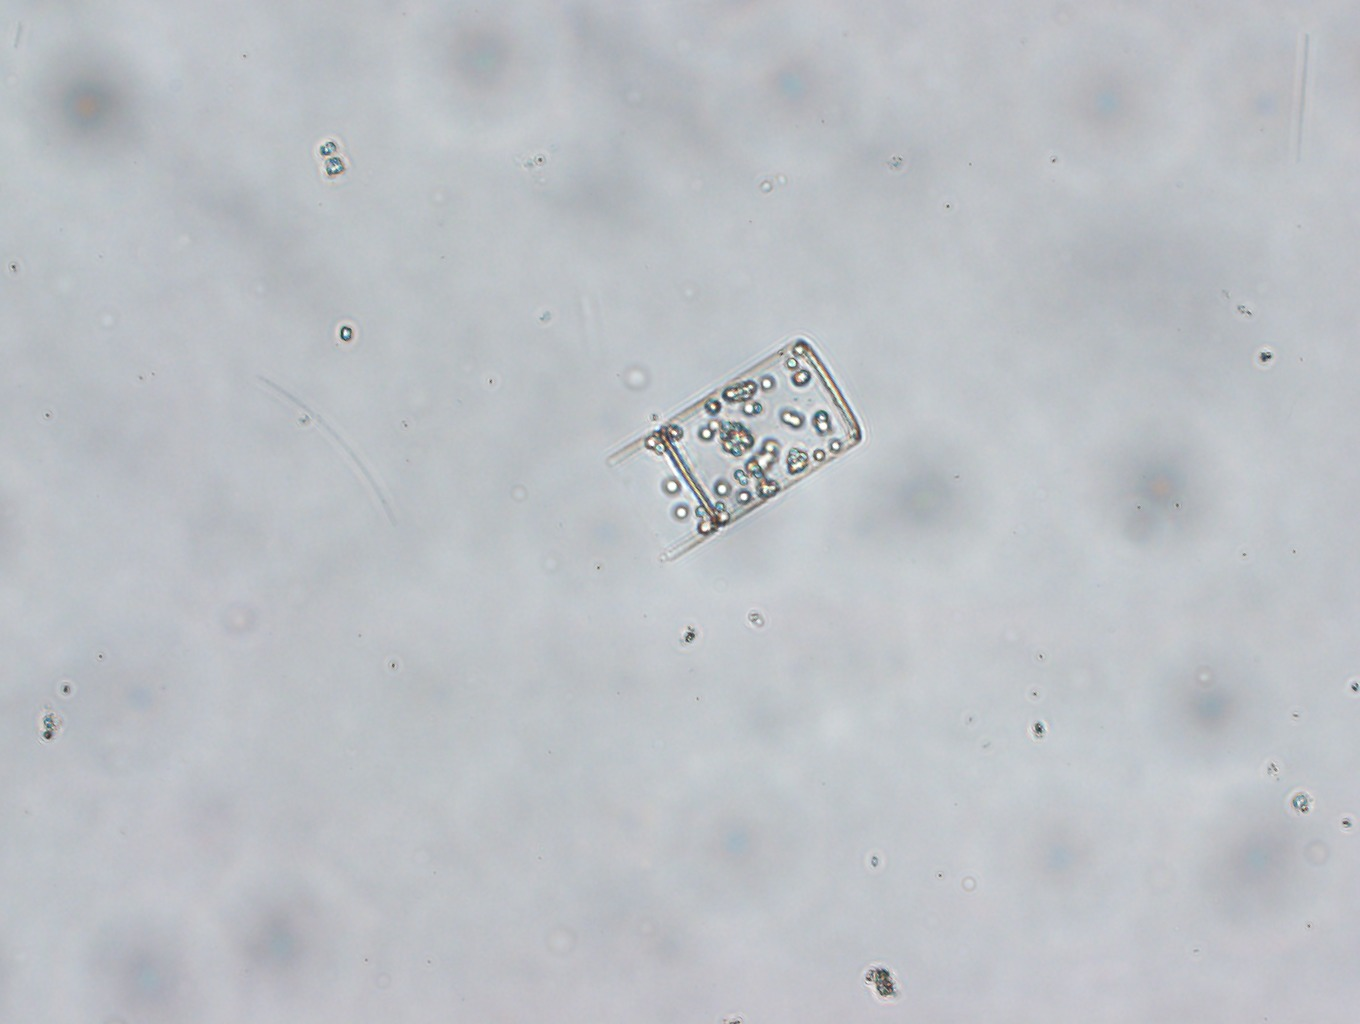guinardia flaccida: (606, 337, 863, 560)
